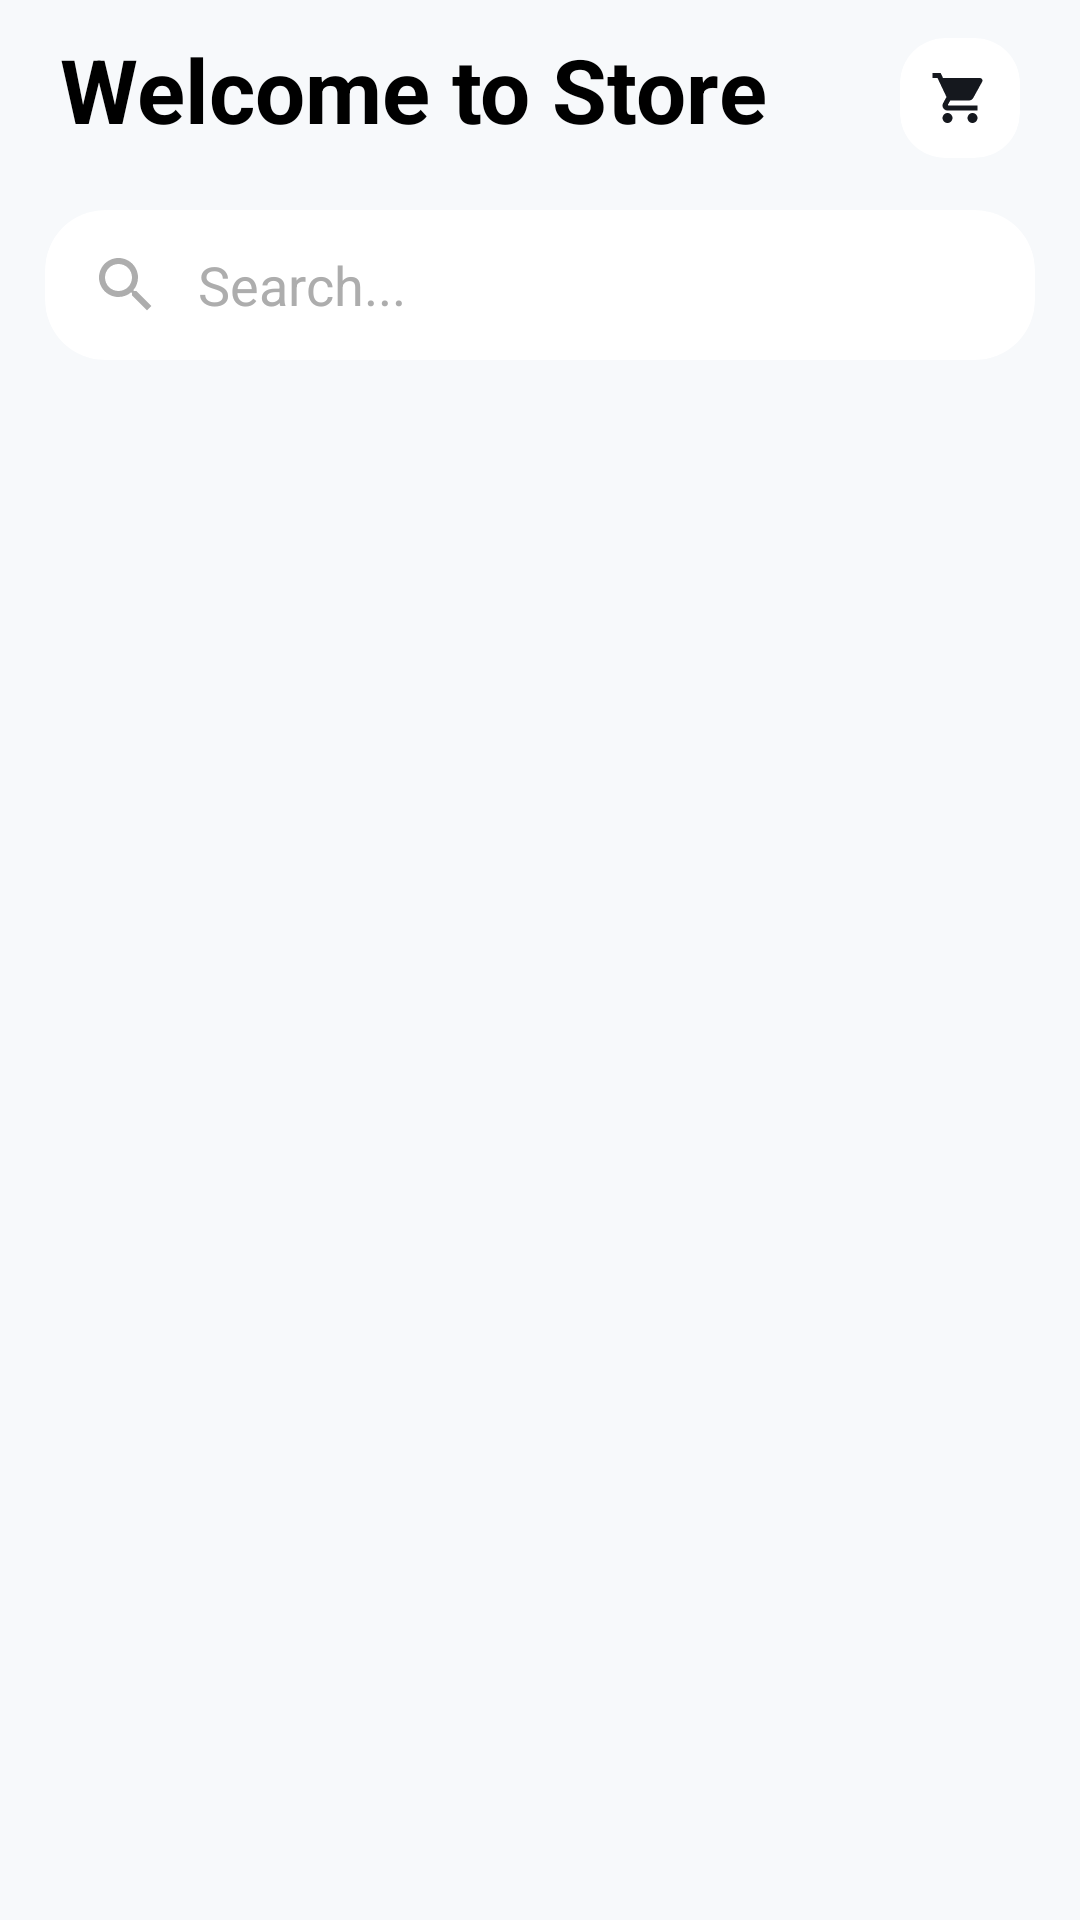

Icons on this 1080w x 1920h Android screen, each with its box as (x1, y1, x2, y2):
shop: (932, 73, 983, 123)
